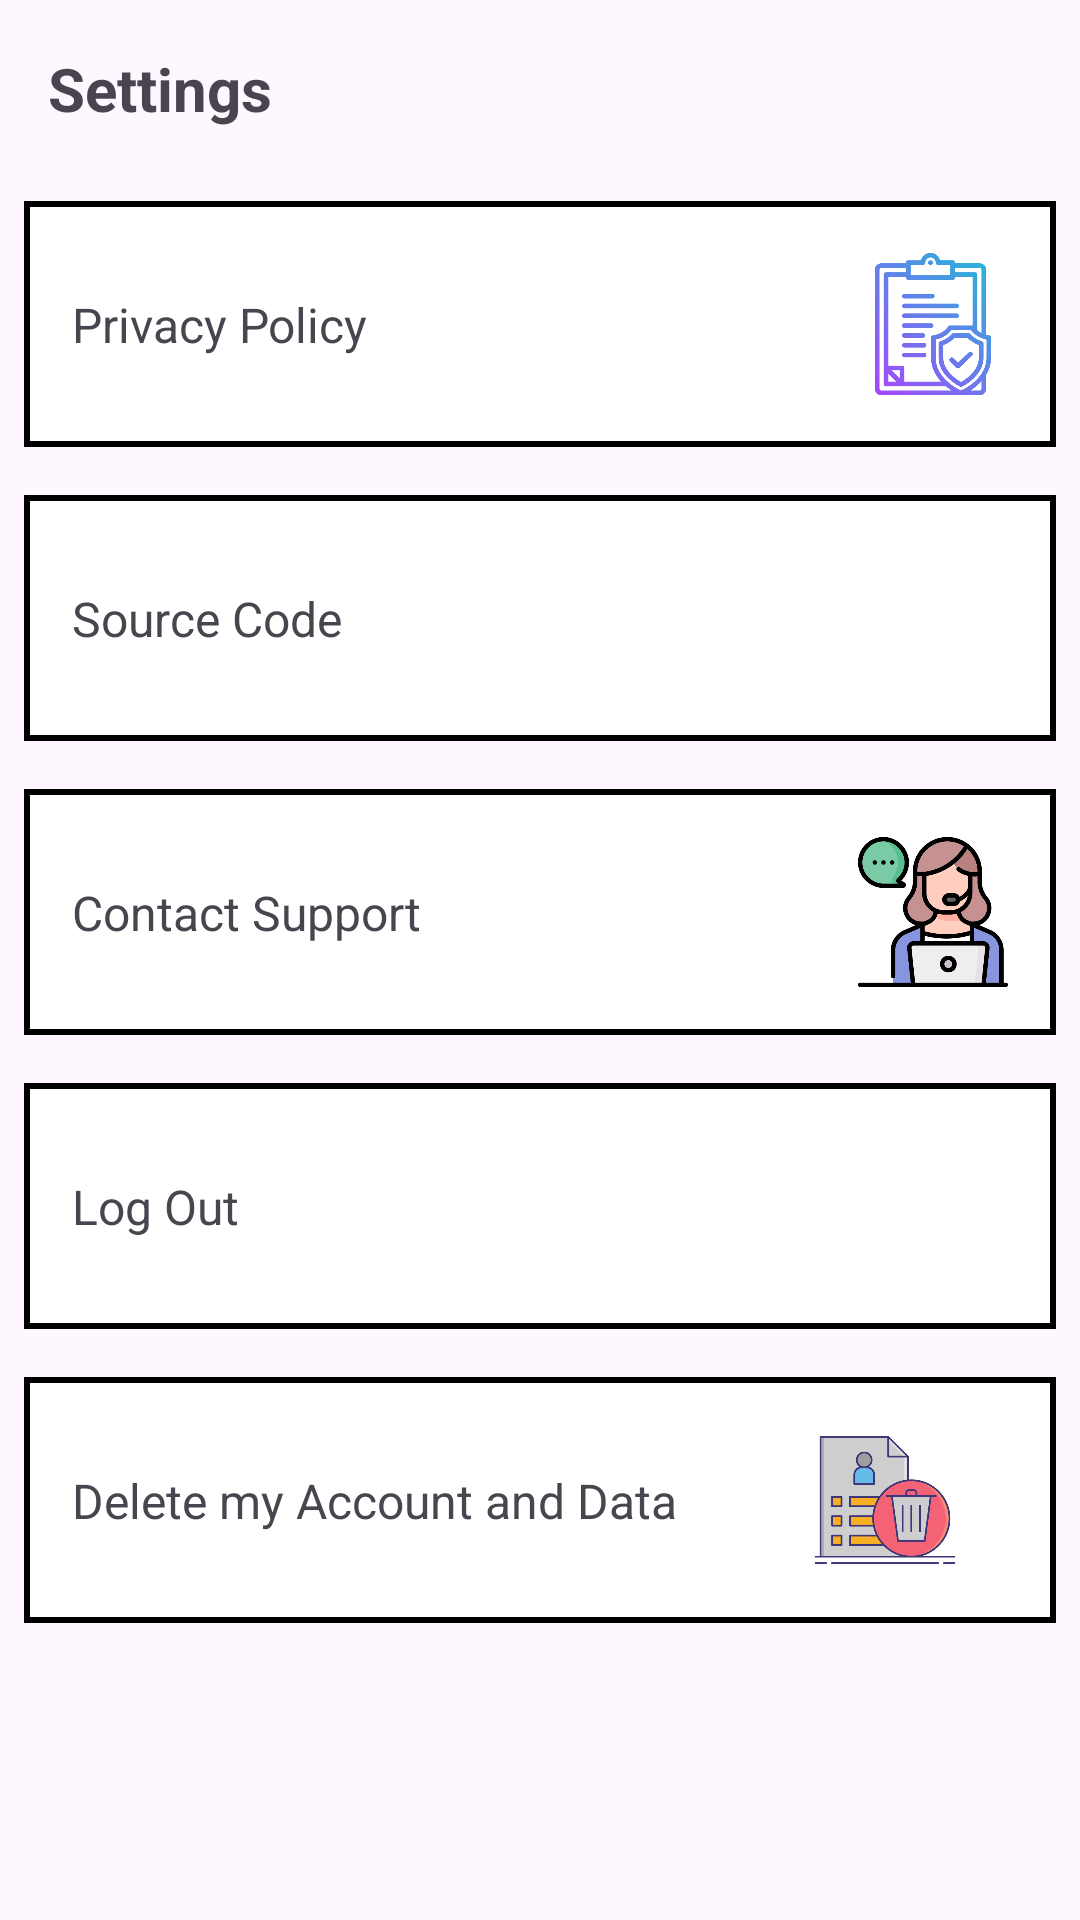

Icons on this 1080 × 1920 Android screen, each with the point to tap as point (x, y):
contact customer care: point (933, 912)
privacy policy: point (933, 324)
